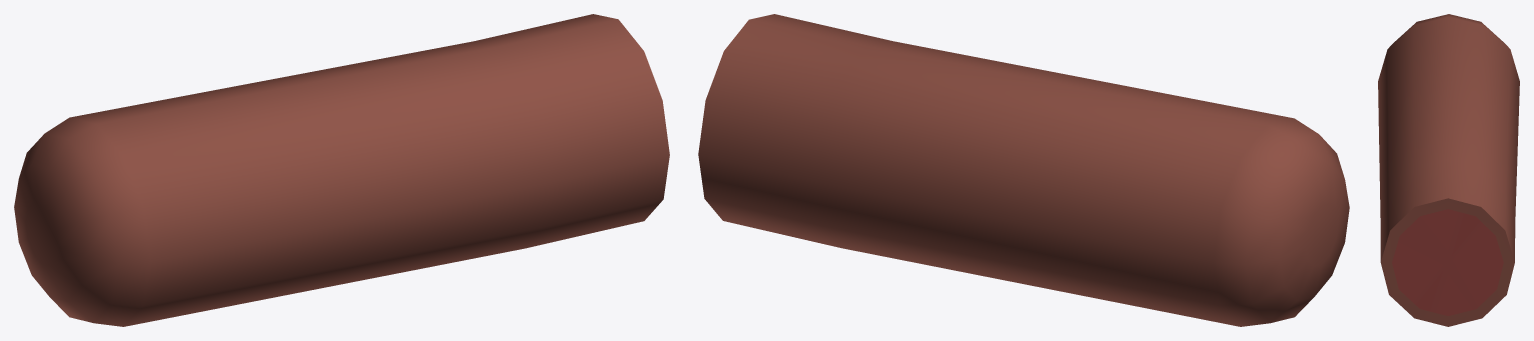
The model's file is Sausage_half.005.fbx.
The picture shows the model from 3 angles, left to right: view 1: azimuth 30°, elevation 25°; view 2: azimuth 150°, elevation 25°; view 3: azimuth 270°, elevation 25°; orthographic projection. The views are drawn at different scales.
Visible parts, largest first — view 1: Sausage_half.005; view 2: Sausage_half.005; view 3: Sausage_half.005.
Part boxes in pixels (x1=…): Sausage_half.005: x1=14, y1=14, x2=669, y2=326; Sausage_half.005: x1=698, y1=14, x2=1349, y2=326; Sausage_half.005: x1=1378, y1=14, x2=1519, y2=326.
Bounding box in the file's own units: 79.77 × 25.95 × 28.84.
